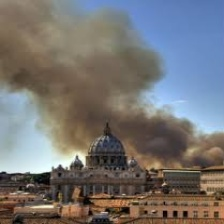smoke: (6, 9, 186, 158)
